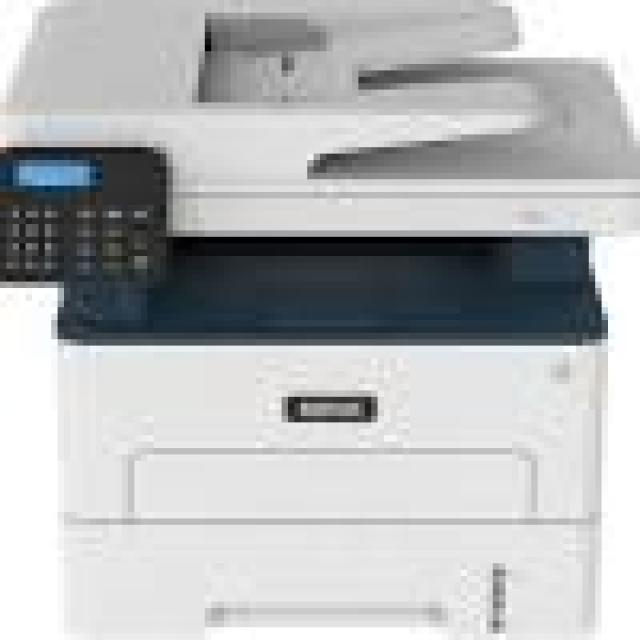printer: (0, 3, 640, 640)
